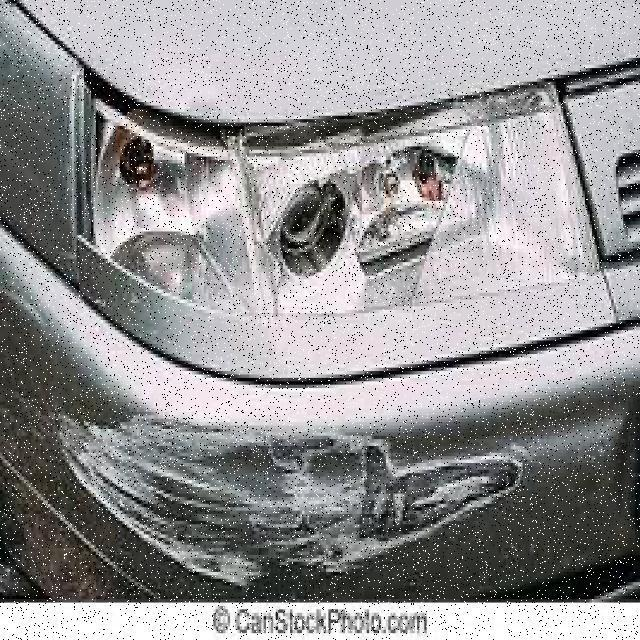Headlight-Damage: (72, 82, 582, 330)
front-bumper-dent: (0, 316, 621, 606)
